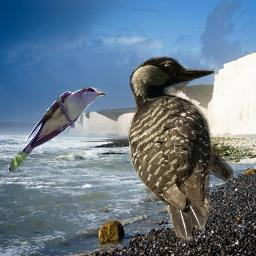Cuckoo: (8, 87, 107, 172)
Woodpecker: (128, 55, 238, 246)
